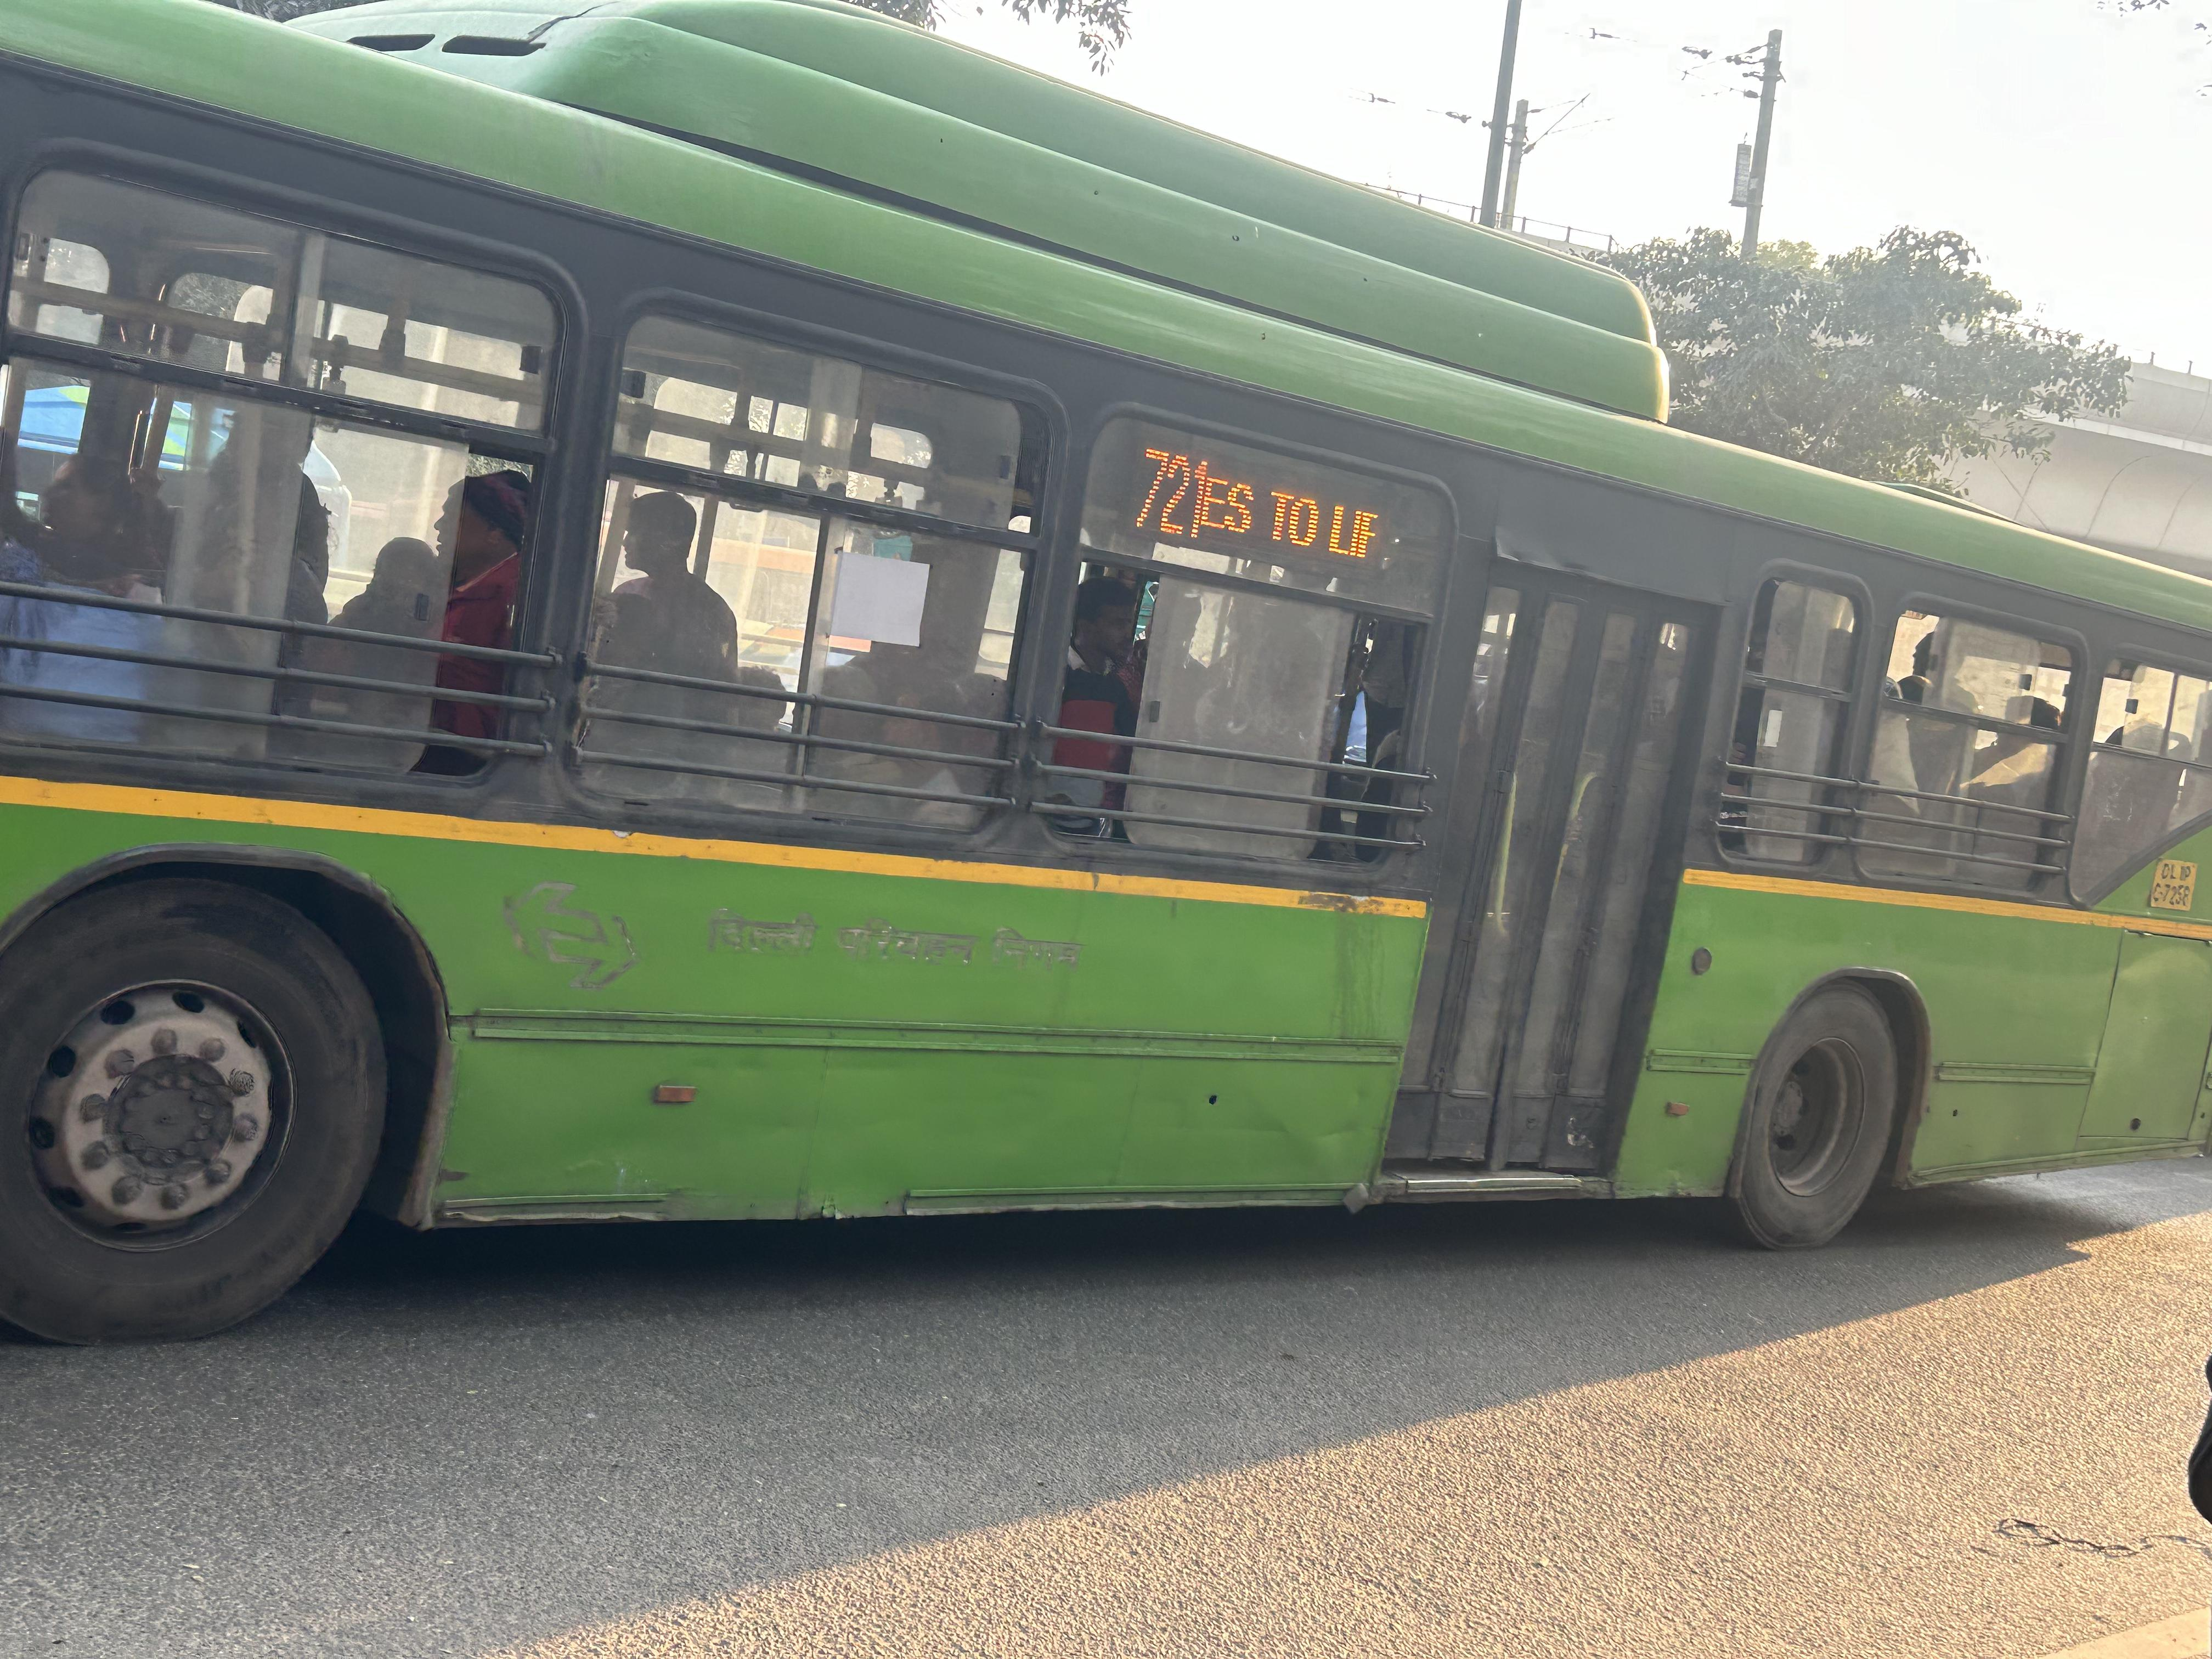Bus: (0, 0, 2212, 1349)
Display Board: (1097, 422, 1475, 636)
